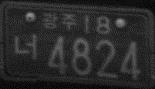1: (83, 13, 91, 36)
2: (94, 38, 118, 79)
4: (119, 39, 142, 81), (46, 35, 69, 76)
8: (71, 37, 92, 75), (95, 15, 111, 34)
광주_O: (41, 11, 77, 30)
너: (12, 32, 38, 62)
